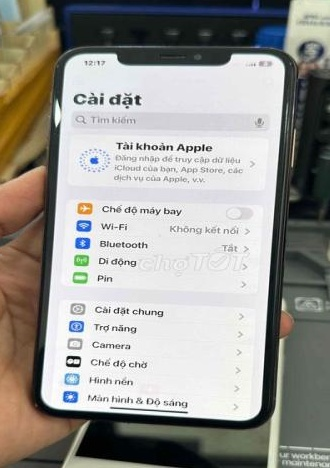scratch: (25, 397, 47, 417), (281, 57, 292, 67), (56, 64, 62, 71)
